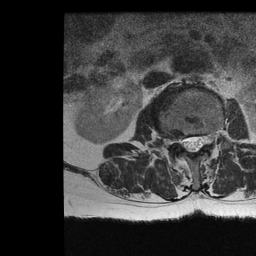CCS_normal: (189, 126, 196, 162)
LFS_normal: (203, 127, 212, 151)
LLS_normal: (196, 126, 203, 156)
RFS_stenosis: (172, 127, 181, 151)
RLS_normal: (180, 127, 189, 155)
